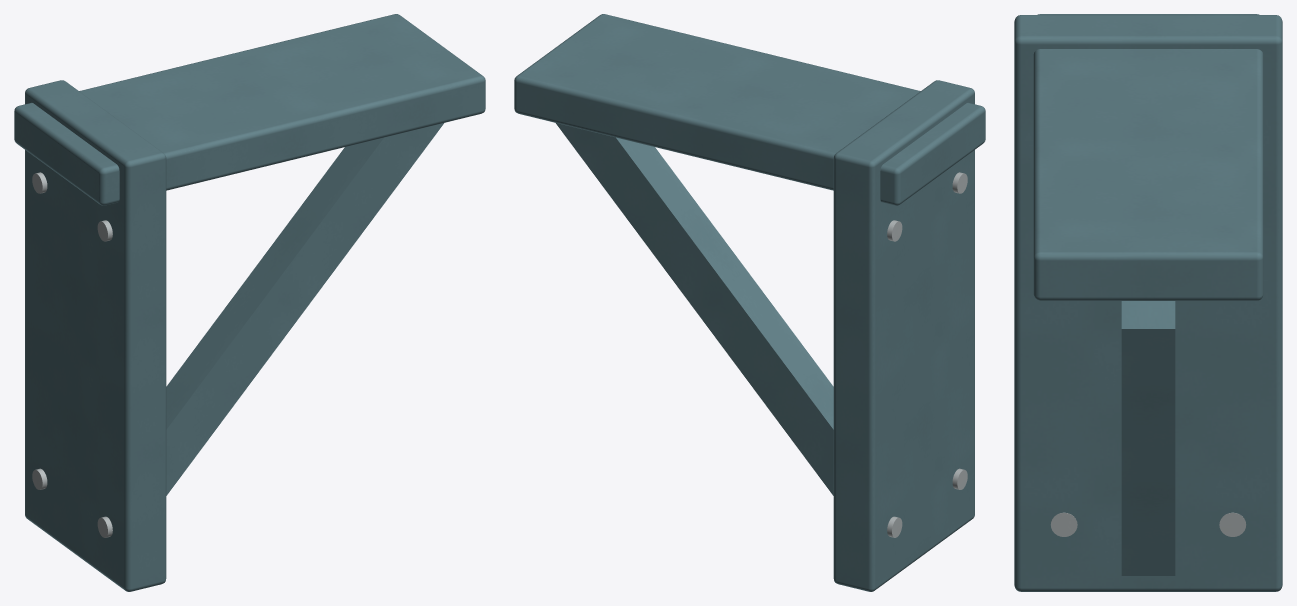
The model's file is gorgehold-survivor-gallery-and-operations-walkway-rock-83548e8b__32878.glb.
3 views of the same model, side by side, from view 1: azimuth 30°, elevation 25°; view 2: azimuth 150°, elevation 25°; view 3: azimuth 270°, elevation 25° (orthographic). The views are drawn at different scales.
Visible parts, largest first — view 1: walkway-rock-support-saddle; view 2: walkway-rock-support-saddle; view 3: walkway-rock-support-saddle.
Boxes of the visible parts, box(x1,y1,x2,y2) form: walkway-rock-support-saddle: box(14, 14, 485, 591); walkway-rock-support-saddle: box(514, 14, 985, 591); walkway-rock-support-saddle: box(1014, 14, 1282, 591).
Bounding box in the file's own units: 1.51 × 1.6 × 0.7001.
2 materials, 2 textured.
